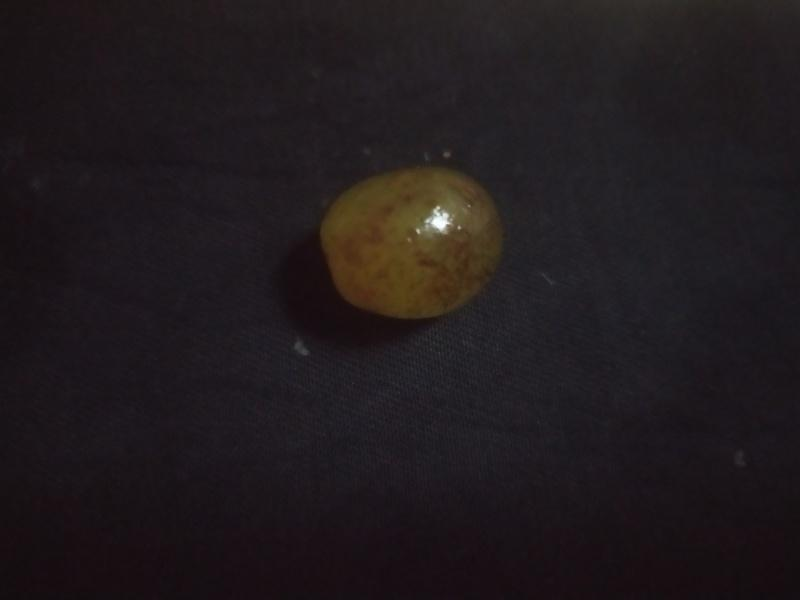Grape Rotten: (317, 162, 507, 322)
